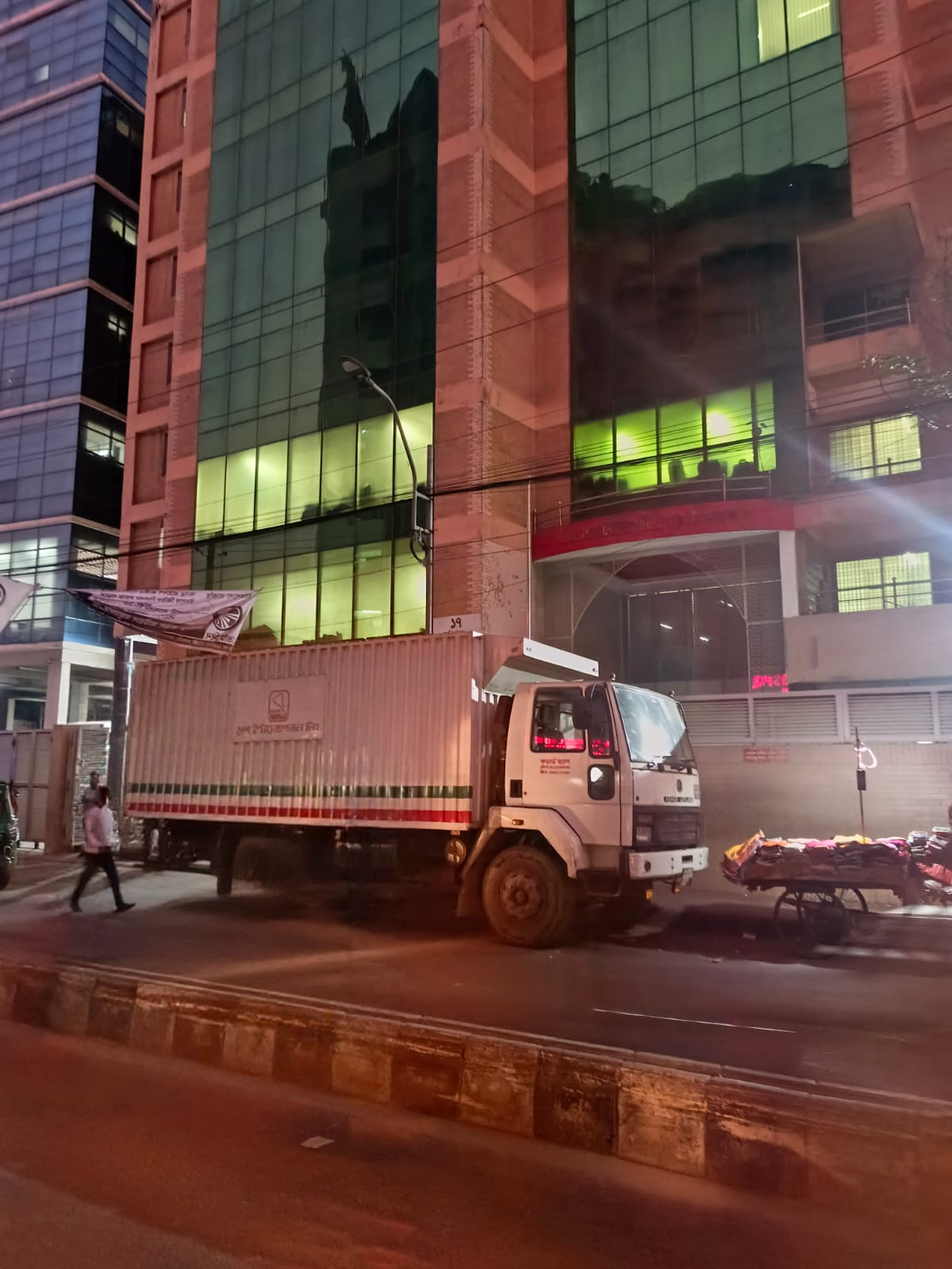Truck: (103, 632, 701, 933)
